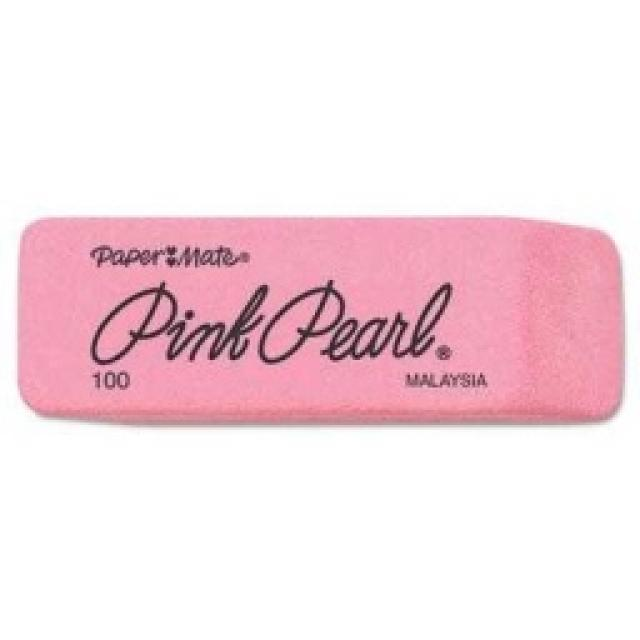Silgi: (17, 211, 626, 429)
